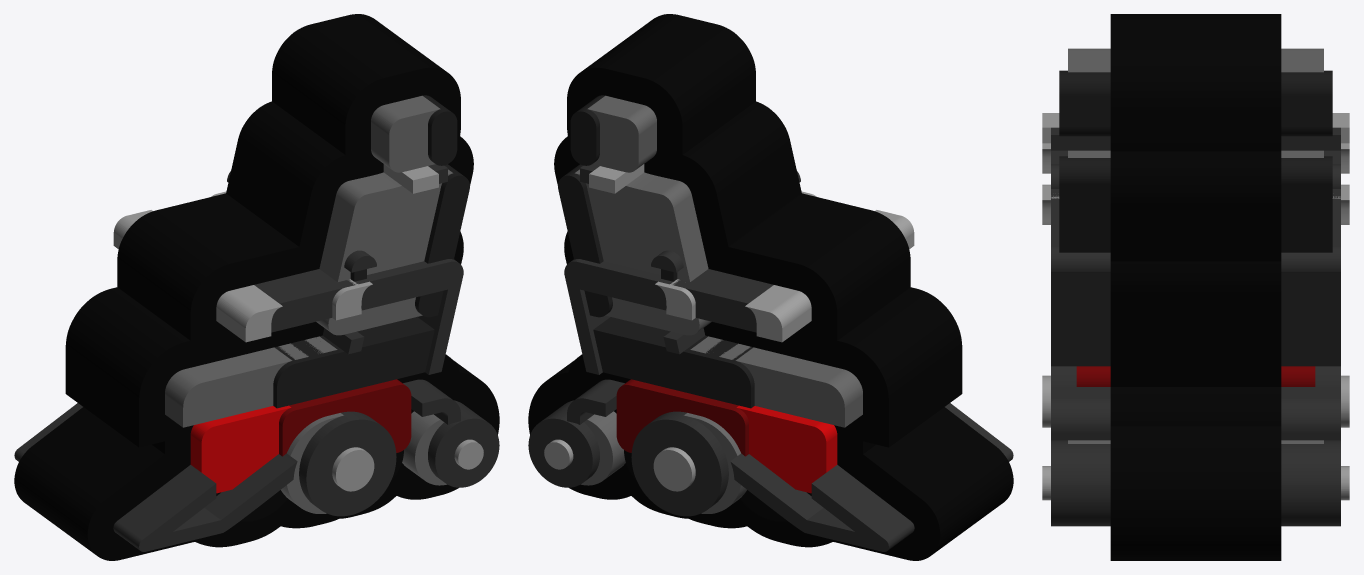
The picture shows the model from 3 angles, left to right: view 1: azimuth 30°, elevation 25°; view 2: azimuth 150°, elevation 25°; view 3: azimuth 270°, elevation 25°; orthographic projection. The views are drawn at different scales.
Parts seen in each view (by area): view 1: U+1F9BC_layer00_obj00, U+1F9BC_layer07_obj00, U+1F9BC_layer05_obj00, U+1F9BC_layer06_obj00, U+1F9BC_layer08_obj00, U+1F9BC_layer03_obj00, U+1F9BC_layer04_obj00, U+1F9BC_layer02_obj00; view 2: U+1F9BC_layer00_obj00, U+1F9BC_layer07_obj00, U+1F9BC_layer05_obj00, U+1F9BC_layer06_obj00, U+1F9BC_layer08_obj00, U+1F9BC_layer03_obj00, U+1F9BC_layer04_obj00, U+1F9BC_layer02_obj00; view 3: U+1F9BC_layer00_obj00, U+1F9BC_layer07_obj00, U+1F9BC_layer06_obj00, U+1F9BC_layer08_obj00, U+1F9BC_layer05_obj00, U+1F9BC_layer04_obj00.
Part boxes in pixels (x1=…): U+1F9BC_layer00_obj00: x1=14, y1=14, x2=499, y2=560; U+1F9BC_layer07_obj00: x1=14, y1=164, x2=499, y2=551; U+1F9BC_layer05_obj00: x1=165, y1=95, x2=452, y2=513; U+1F9BC_layer06_obj00: x1=273, y1=95, x2=469, y2=408; U+1F9BC_layer08_obj00: x1=113, y1=164, x2=483, y2=491; U+1F9BC_layer03_obj00: x1=190, y1=405, x2=291, y2=493; U+1F9BC_layer04_obj00: x1=279, y1=379, x2=411, y2=456; U+1F9BC_layer02_obj00: x1=216, y1=450, x2=403, y2=521; U+1F9BC_layer00_obj00: x1=528, y1=14, x2=1013, y2=560; U+1F9BC_layer07_obj00: x1=528, y1=164, x2=1013, y2=551; U+1F9BC_layer05_obj00: x1=575, y1=95, x2=862, y2=513; U+1F9BC_layer06_obj00: x1=558, y1=95, x2=754, y2=408; U+1F9BC_layer08_obj00: x1=544, y1=164, x2=914, y2=491; U+1F9BC_layer03_obj00: x1=736, y1=405, x2=837, y2=493; U+1F9BC_layer04_obj00: x1=616, y1=379, x2=748, y2=456; U+1F9BC_layer02_obj00: x1=624, y1=450, x2=811, y2=521; U+1F9BC_layer00_obj00: x1=1110, y1=14, x2=1281, y2=560; U+1F9BC_layer07_obj00: x1=1051, y1=127, x2=1340, y2=526; U+1F9BC_layer06_obj00: x1=1059, y1=70, x2=1332, y2=252; U+1F9BC_layer08_obj00: x1=1042, y1=113, x2=1349, y2=500; U+1F9BC_layer05_obj00: x1=1068, y1=48, x2=1323, y2=443; U+1F9BC_layer04_obj00: x1=1076, y1=366, x2=1315, y2=386.
Size of the model in its own units: 0.6491 by 0.649 by 0.36.
